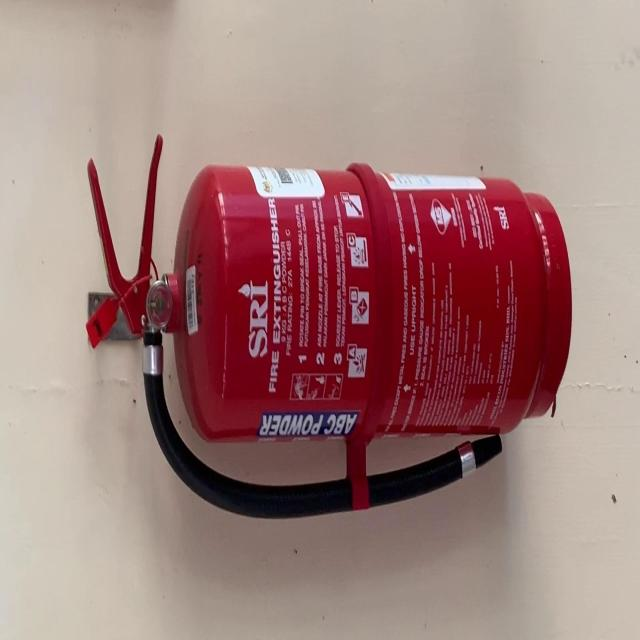fire_extinguisher: (81, 123, 579, 529)
